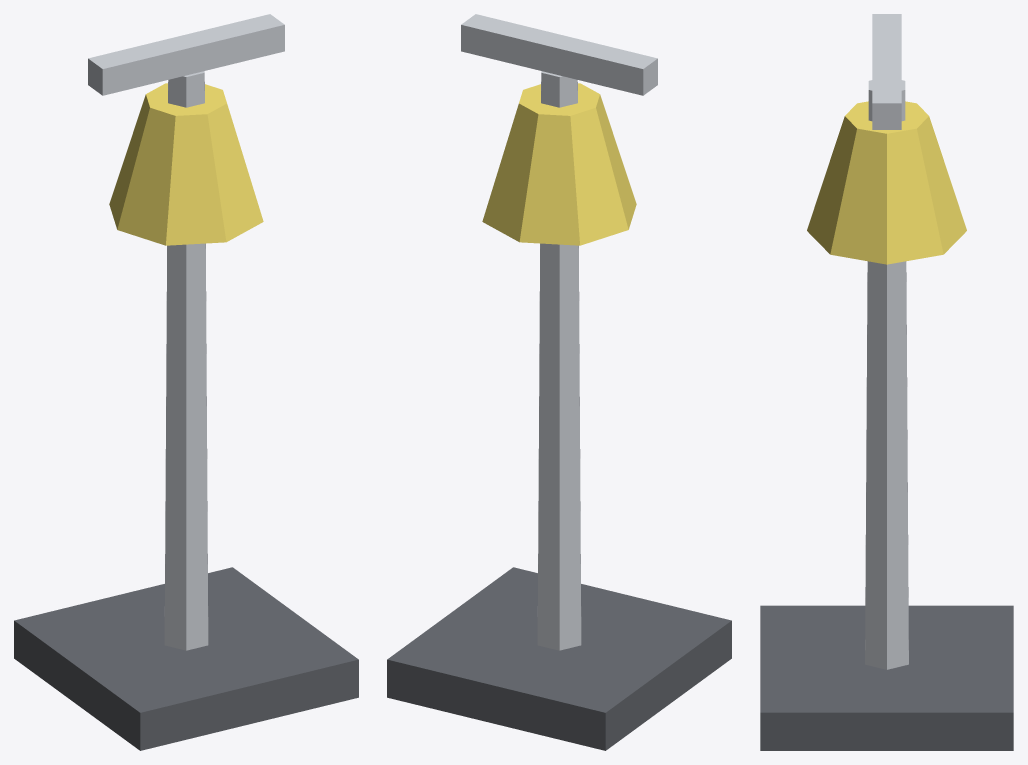
File: velodrome-and-track-cycling-bell-on-stand-31ceff7b.glb
3 views of the same model, side by side, from view 1: azimuth 30°, elevation 25°; view 2: azimuth 150°, elevation 25°; view 3: azimuth 270°, elevation 25° (orthographic).
Visible parts, largest first — view 1: bell-on-stand-charcoal, bell-on-stand-steel, bell/canary; view 2: bell-on-stand-charcoal, bell-on-stand-steel, bell/canary; view 3: bell-on-stand-charcoal, bell-on-stand-steel, bell/canary.
Boxes of the visible parts, x1,y1,x2,y2 form: bell-on-stand-charcoal: [14, 567, 358, 750]; bell-on-stand-steel: [88, 14, 284, 650]; bell/canary: [109, 83, 263, 245]; bell-on-stand-charcoal: [387, 567, 731, 750]; bell-on-stand-steel: [461, 14, 657, 650]; bell/canary: [482, 83, 636, 245]; bell-on-stand-charcoal: [760, 605, 1013, 750]; bell-on-stand-steel: [865, 14, 908, 669]; bell/canary: [807, 101, 966, 264].
Bounding box in the file's own units: 0.6 × 1.67 × 0.6.
